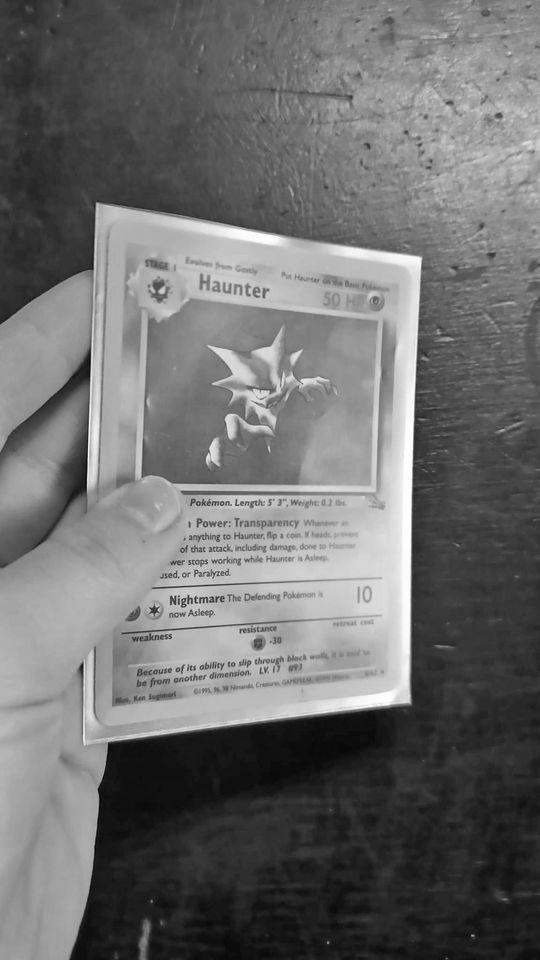card: (94, 220, 413, 727)
